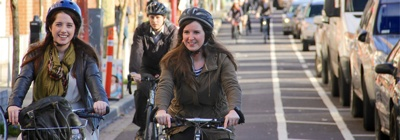helmet: (176, 5, 214, 51)
